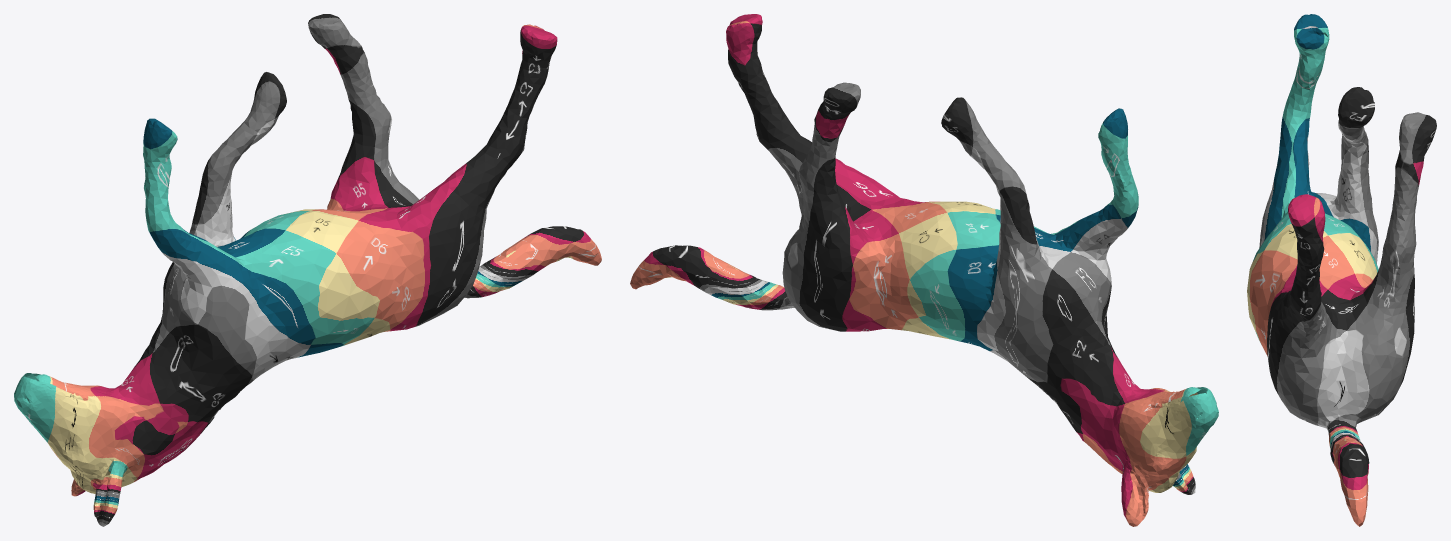
Rendered from hippo_03-horse_02.obj.
The picture shows the model from 3 angles, left to right: view 1: azimuth 30°, elevation 25°; view 2: azimuth 150°, elevation 25°; view 3: azimuth 270°, elevation 25°; orthographic projection. The views are drawn at different scales.
Visible parts, largest first — view 1: hippo_03-horse_02_export; view 2: hippo_03-horse_02_export; view 3: hippo_03-horse_02_export.
Boxes of the visible parts, box(x1,y1,x2,y2) form: hippo_03-horse_02_export: box(14, 14, 601, 526); hippo_03-horse_02_export: box(630, 14, 1218, 526); hippo_03-horse_02_export: box(1247, 14, 1436, 526).
Bounding box in the file's own units: 1.21 × 0.7725 × 0.3328.
